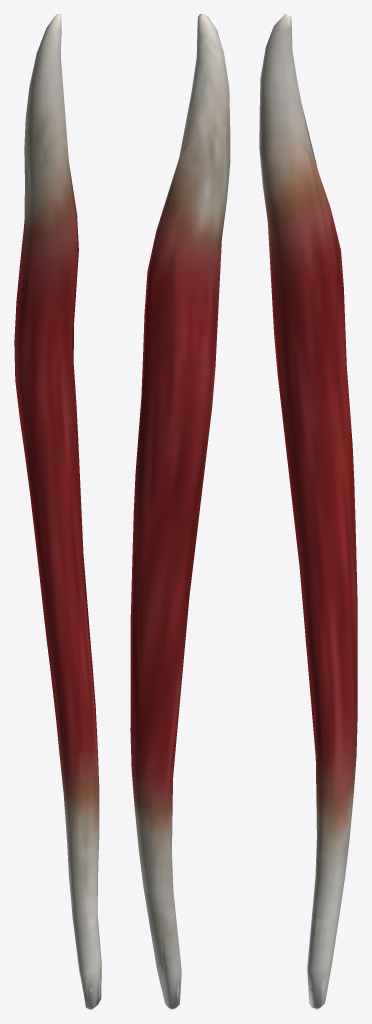
File: R Extensor carpi ulnaris.fbx
3 views of the same model, side by side, from view 1: azimuth 30°, elevation 25°; view 2: azimuth 150°, elevation 25°; view 3: azimuth 330°, elevation 25° (orthographic).
Visible parts, largest first — view 1: R Extensor carpi ulnaris low, R Extensor carpi ulnaris, R Extensor carpi ulnaris high; view 2: R Extensor carpi ulnaris, R Extensor carpi ulnaris low, R Extensor carpi ulnaris high; view 3: R Extensor carpi ulnaris low, R Extensor carpi ulnaris, R Extensor carpi ulnaris high.
Boxes of the visible parts, <box> form: R Extensor carpi ulnaris low: <box>15,18,100,1007</box>; R Extensor carpi ulnaris: <box>14,14,101,1009</box>; R Extensor carpi ulnaris high: <box>18,21,100,997</box>; R Extensor carpi ulnaris: <box>130,14,230,1009</box>; R Extensor carpi ulnaris low: <box>130,14,228,1007</box>; R Extensor carpi ulnaris high: <box>135,21,226,997</box>; R Extensor carpi ulnaris low: <box>259,16,357,1007</box>; R Extensor carpi ulnaris: <box>259,14,357,1009</box>; R Extensor carpi ulnaris high: <box>262,36,353,1001</box>.
Bounding box in the file's own units: 0.8985 × 10.92 × 0.8584.
